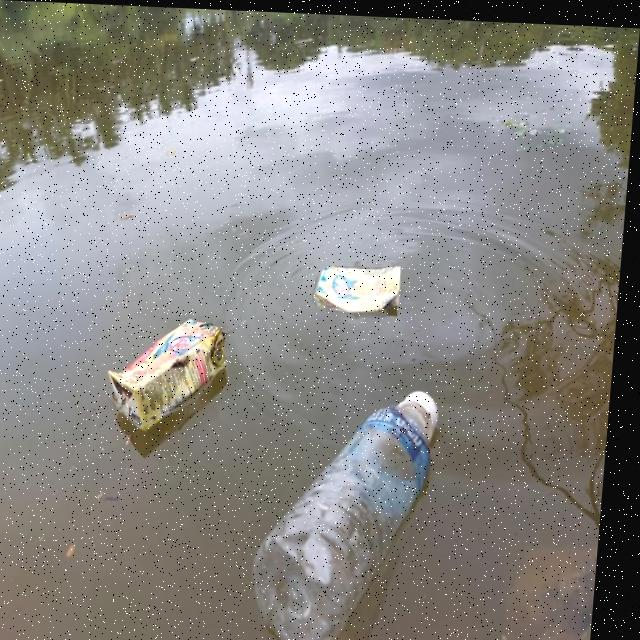paper: (100, 280, 249, 450), (320, 252, 414, 326)
waterbottle: (257, 372, 486, 640)
